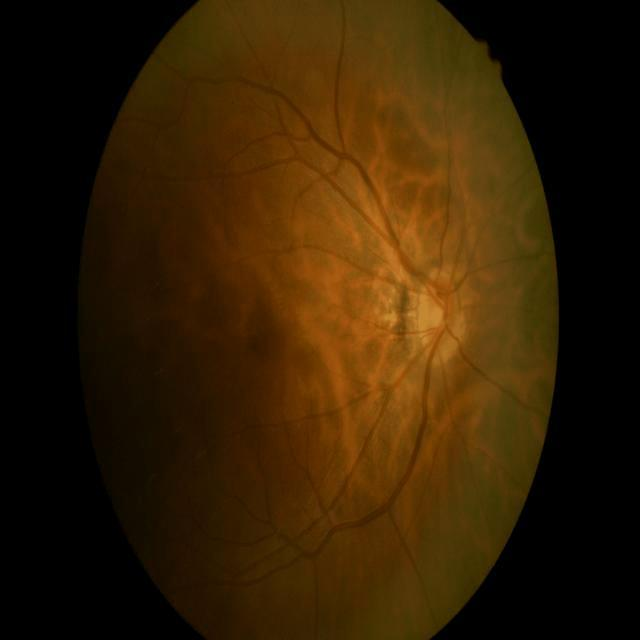cup: (426, 296, 450, 344)
disk: (416, 268, 464, 368)
